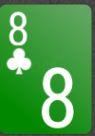Clover: (6, 48, 33, 74)
